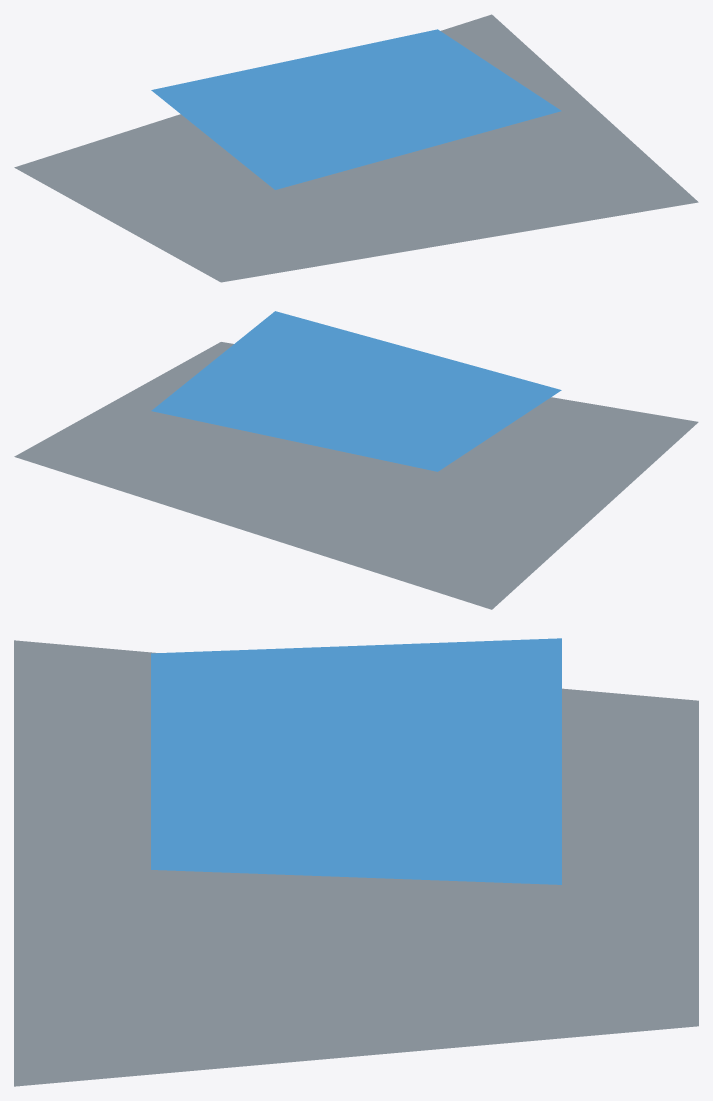
File: AL_ShrikeInterceptor_LOD2.glb
3 renders of one model, top to bottom at view 1: azimuth 30°, elevation 25°; view 2: azimuth 150°, elevation 25°; view 3: azimuth 270°, elevation 25°, orthographic. The views are drawn at different scales.
Visible parts, largest first — view 1: EntranceGate; view 2: EntranceGate; view 3: EntranceGate.
Boxes of the visible parts, left/top/right/bottom form: EntranceGate: left=14, top=14, right=698, bottom=282; EntranceGate: left=14, top=311, right=698, bottom=609; EntranceGate: left=14, top=638, right=698, bottom=1086.
Bounding box in the file's own units: 640 × 108 × 480.
